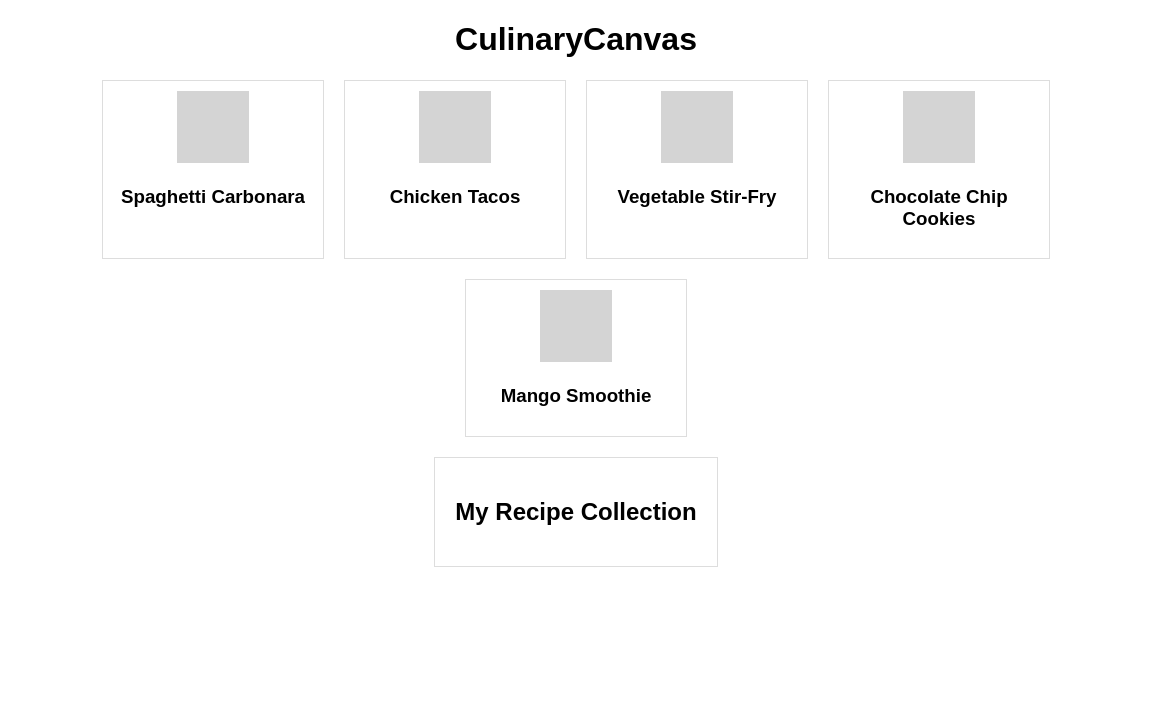
Test: App › displays 'Save to Collection' button for the list of recipes › displays_save_to_collection_button_for_vegetable_stir_fry
Click the heading "Vegetable Stir-Fry" at (697, 196), box [618, 186, 776, 207]
(page scrolled)
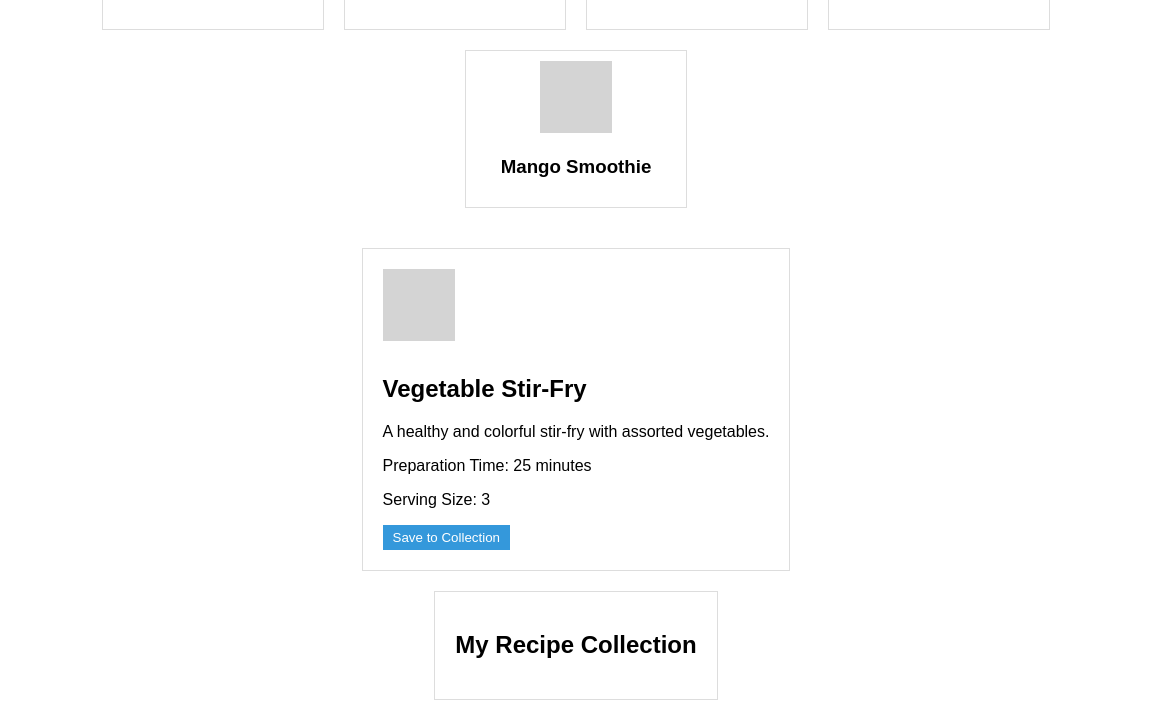
Expected: the button "Save to Collection" is shown, [383, 525, 510, 550]
